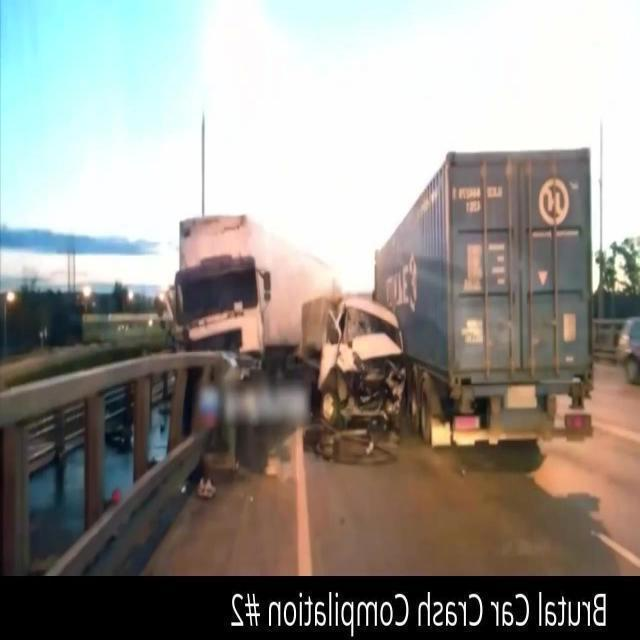accident: (304, 142, 595, 462), (170, 205, 408, 460)
